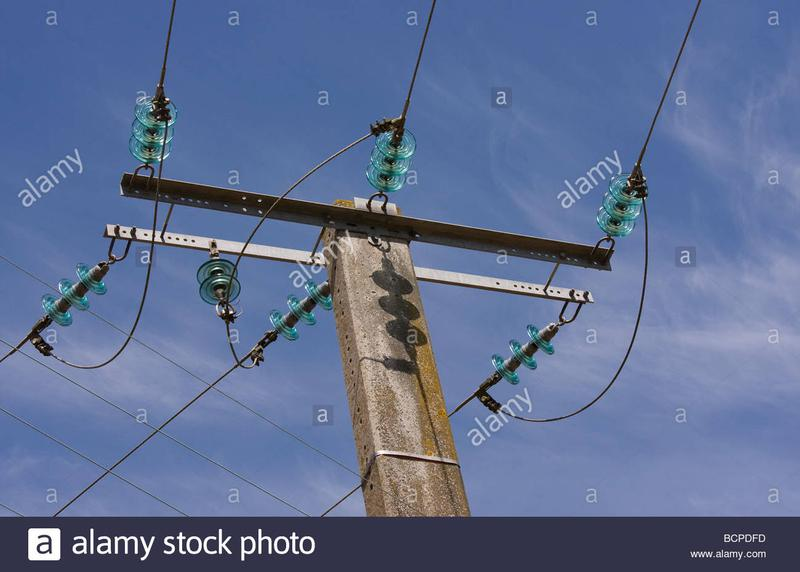isolator: (40, 261, 108, 327), (489, 323, 555, 386), (267, 280, 333, 342), (594, 172, 648, 239), (127, 96, 177, 165), (365, 127, 417, 193), (195, 258, 240, 305)
